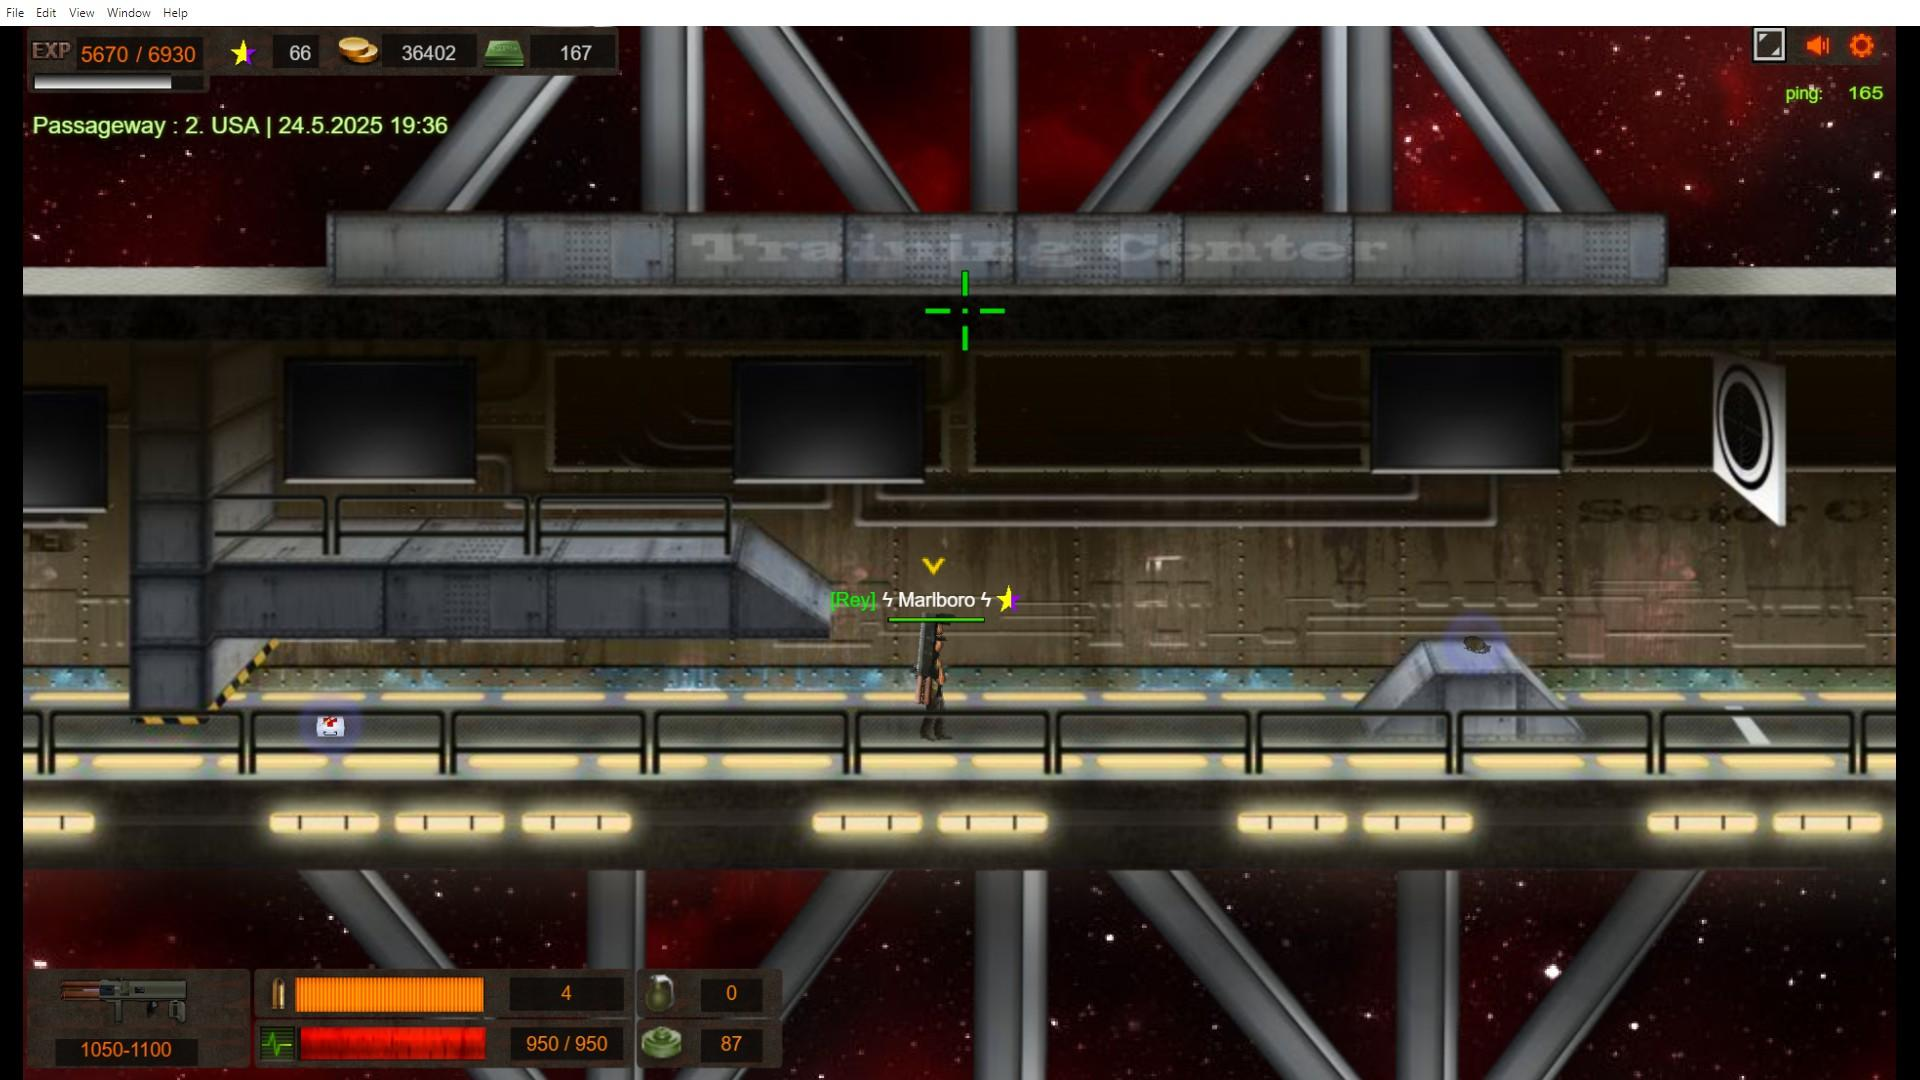enemy: (919, 637, 952, 740)
